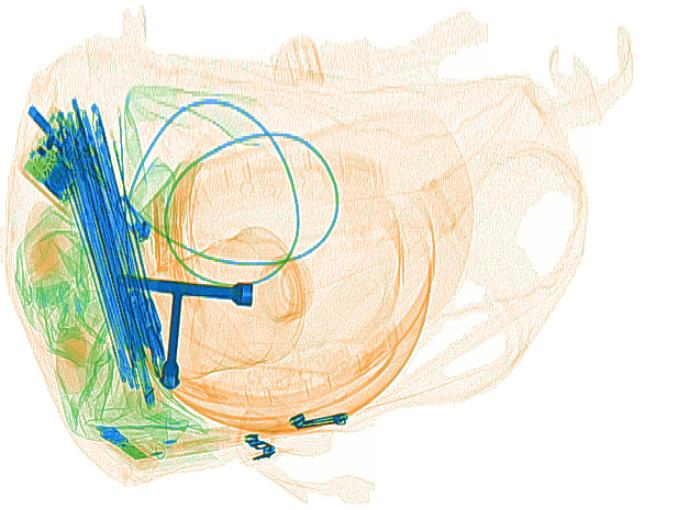USBFlashDisk: (98, 425, 148, 459)
